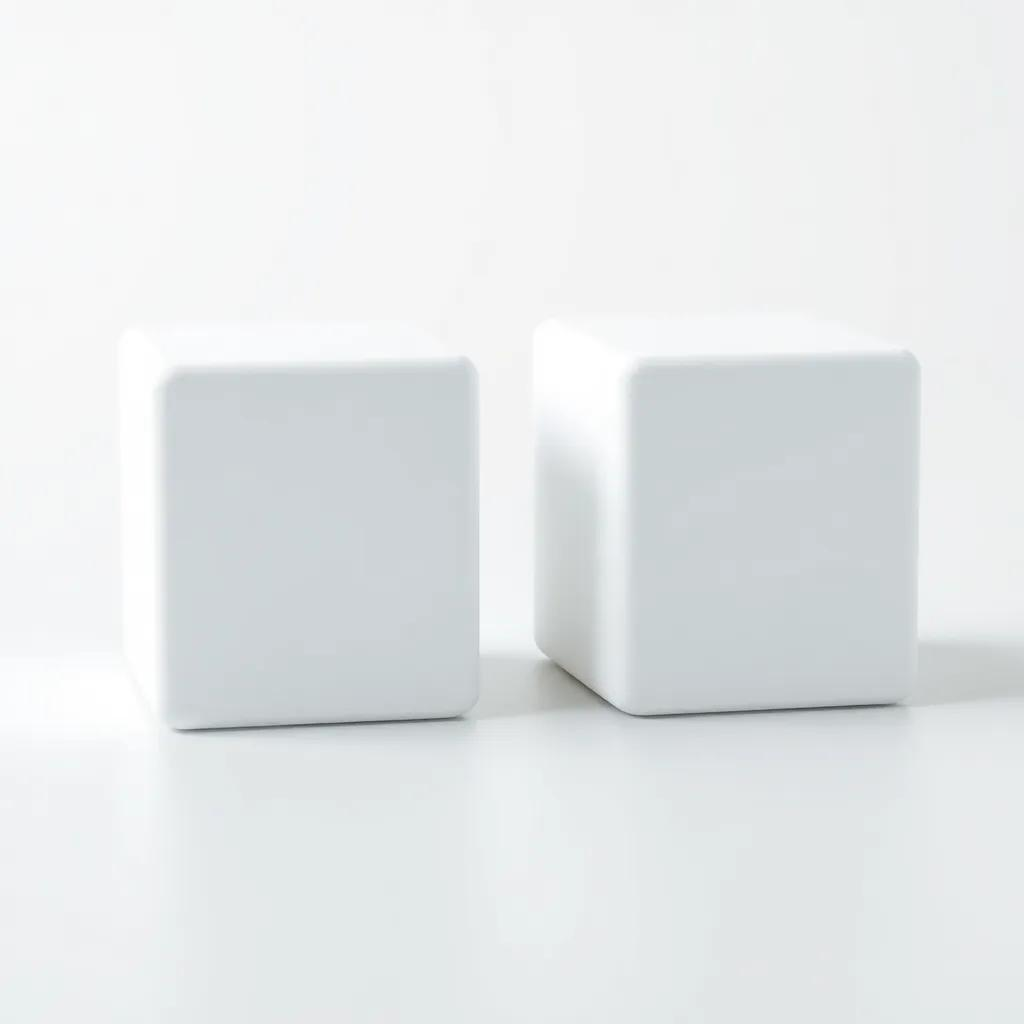cube: (530, 312, 921, 717), (147, 349, 482, 730)
